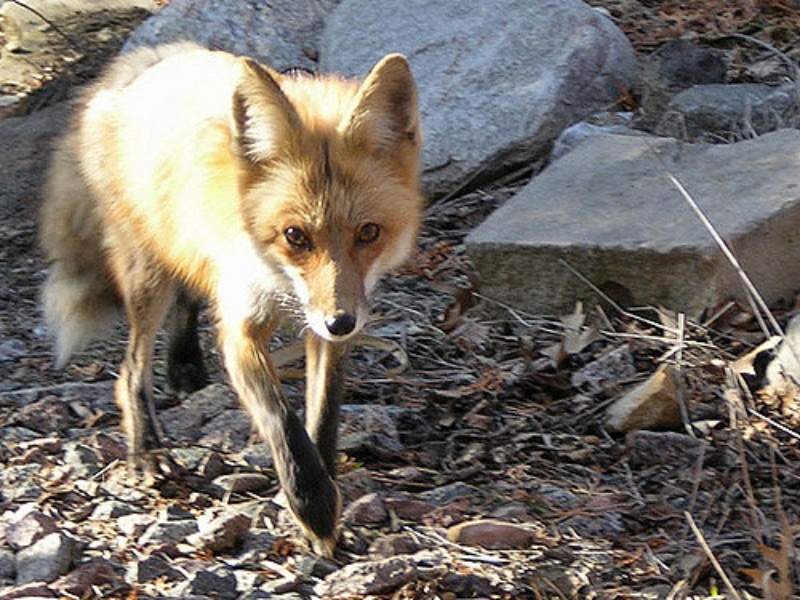fox: (39, 37, 428, 563)
